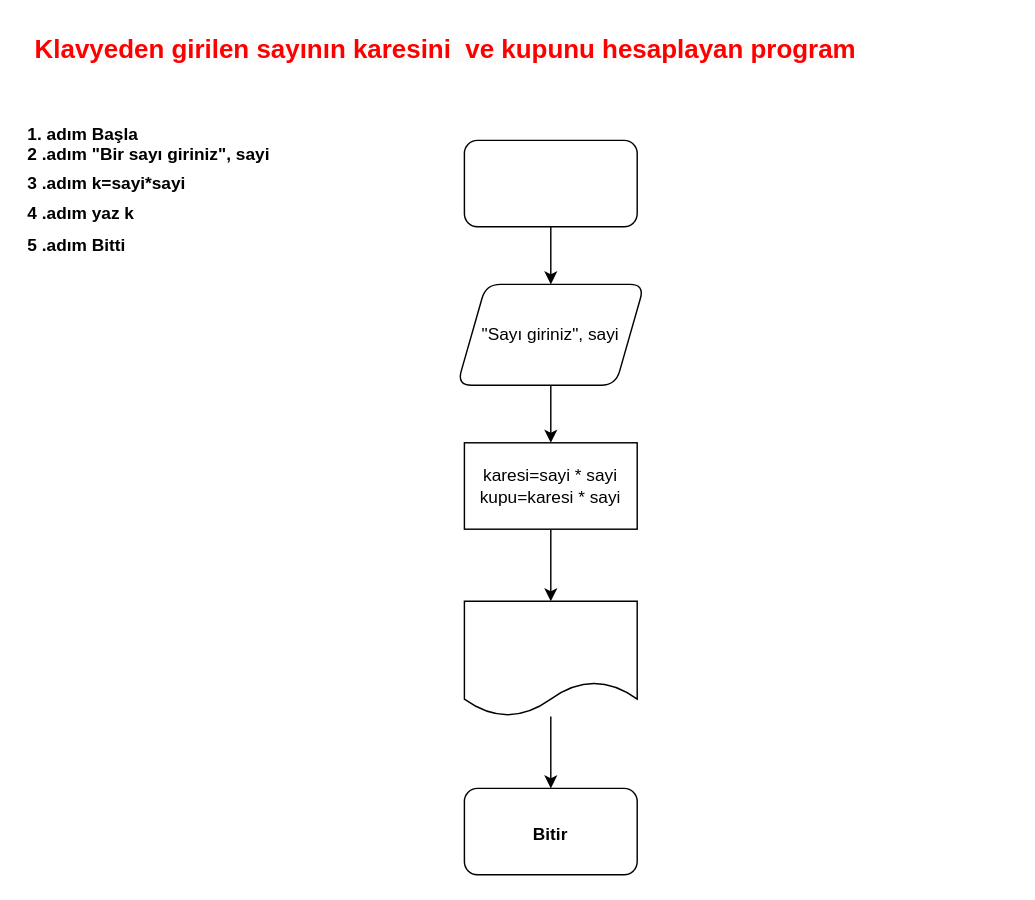
This 1035x900 diagram has some shape labels left out. The box of each missing label's shape, as (x1, y1, x2, y2) in pixels:
Başla: (463, 139, 637, 227)
Yaz, karesi, kupu: (463, 600, 637, 716)
